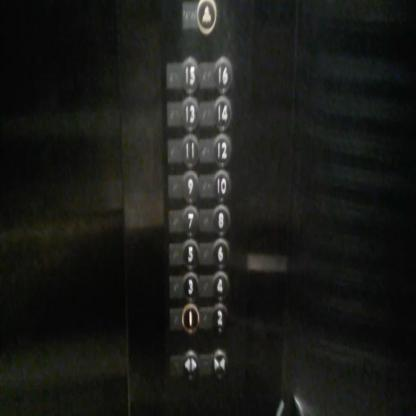1: (168, 303, 199, 337)
10: (200, 170, 232, 204)
11: (166, 134, 200, 168)
12: (199, 134, 233, 168)
13: (166, 95, 200, 133)
14: (199, 95, 233, 132)
15: (165, 56, 200, 94)
16: (199, 55, 234, 93)
2: (199, 302, 230, 338)
3: (168, 272, 199, 302)
4: (200, 271, 230, 302)
5: (167, 238, 199, 272)
6: (200, 238, 231, 270)
7: (168, 205, 198, 239)
8: (198, 204, 231, 237)
9: (167, 170, 200, 205)
alarm: (180, 0, 218, 36)
close: (199, 348, 229, 382)
open: (170, 348, 200, 382)
